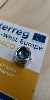Nut: (15, 45, 32, 65)
